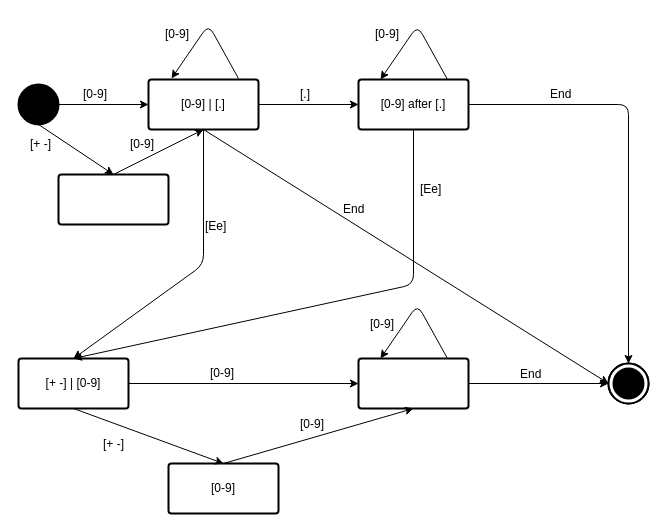
Image size: 666x532. Some labels were removed from this diagram. Each missing label, with the centre of its shape:
"[0-9] before [.]" goes at pixel 113 199.
"[0-9] | [E e]" goes at pixel 413 383.
